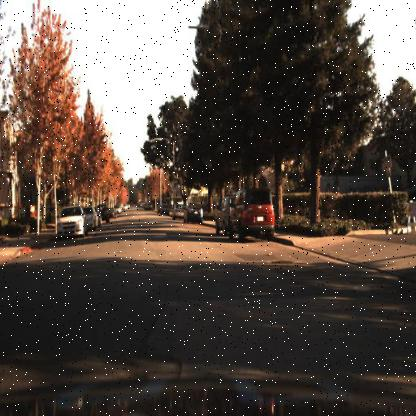car: (227, 187, 275, 240), (52, 199, 86, 244), (56, 203, 86, 239), (212, 188, 231, 240), (182, 200, 206, 225), (182, 200, 205, 225), (83, 204, 97, 233), (170, 199, 185, 222)
